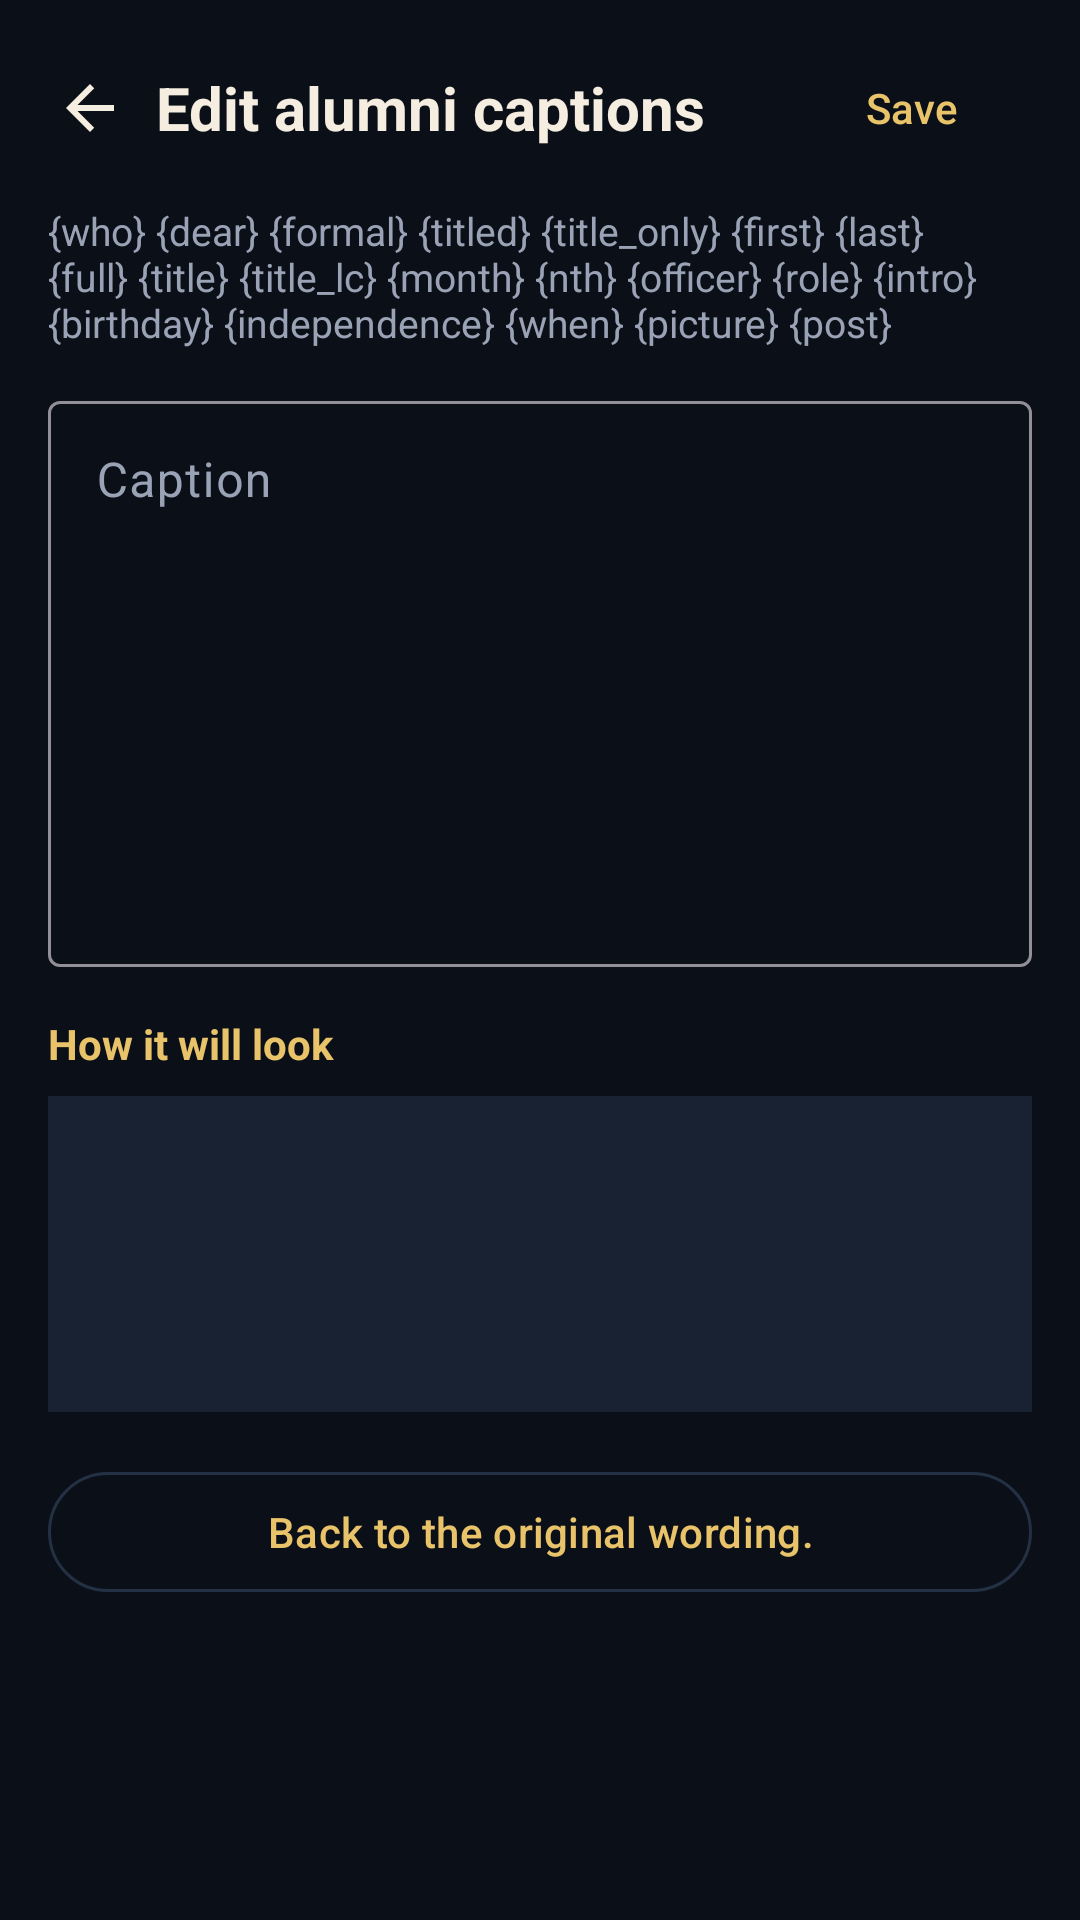

Screen size 1080×1920. Icon name, then its center in pixels as (x,y):
Back: (90,108)
